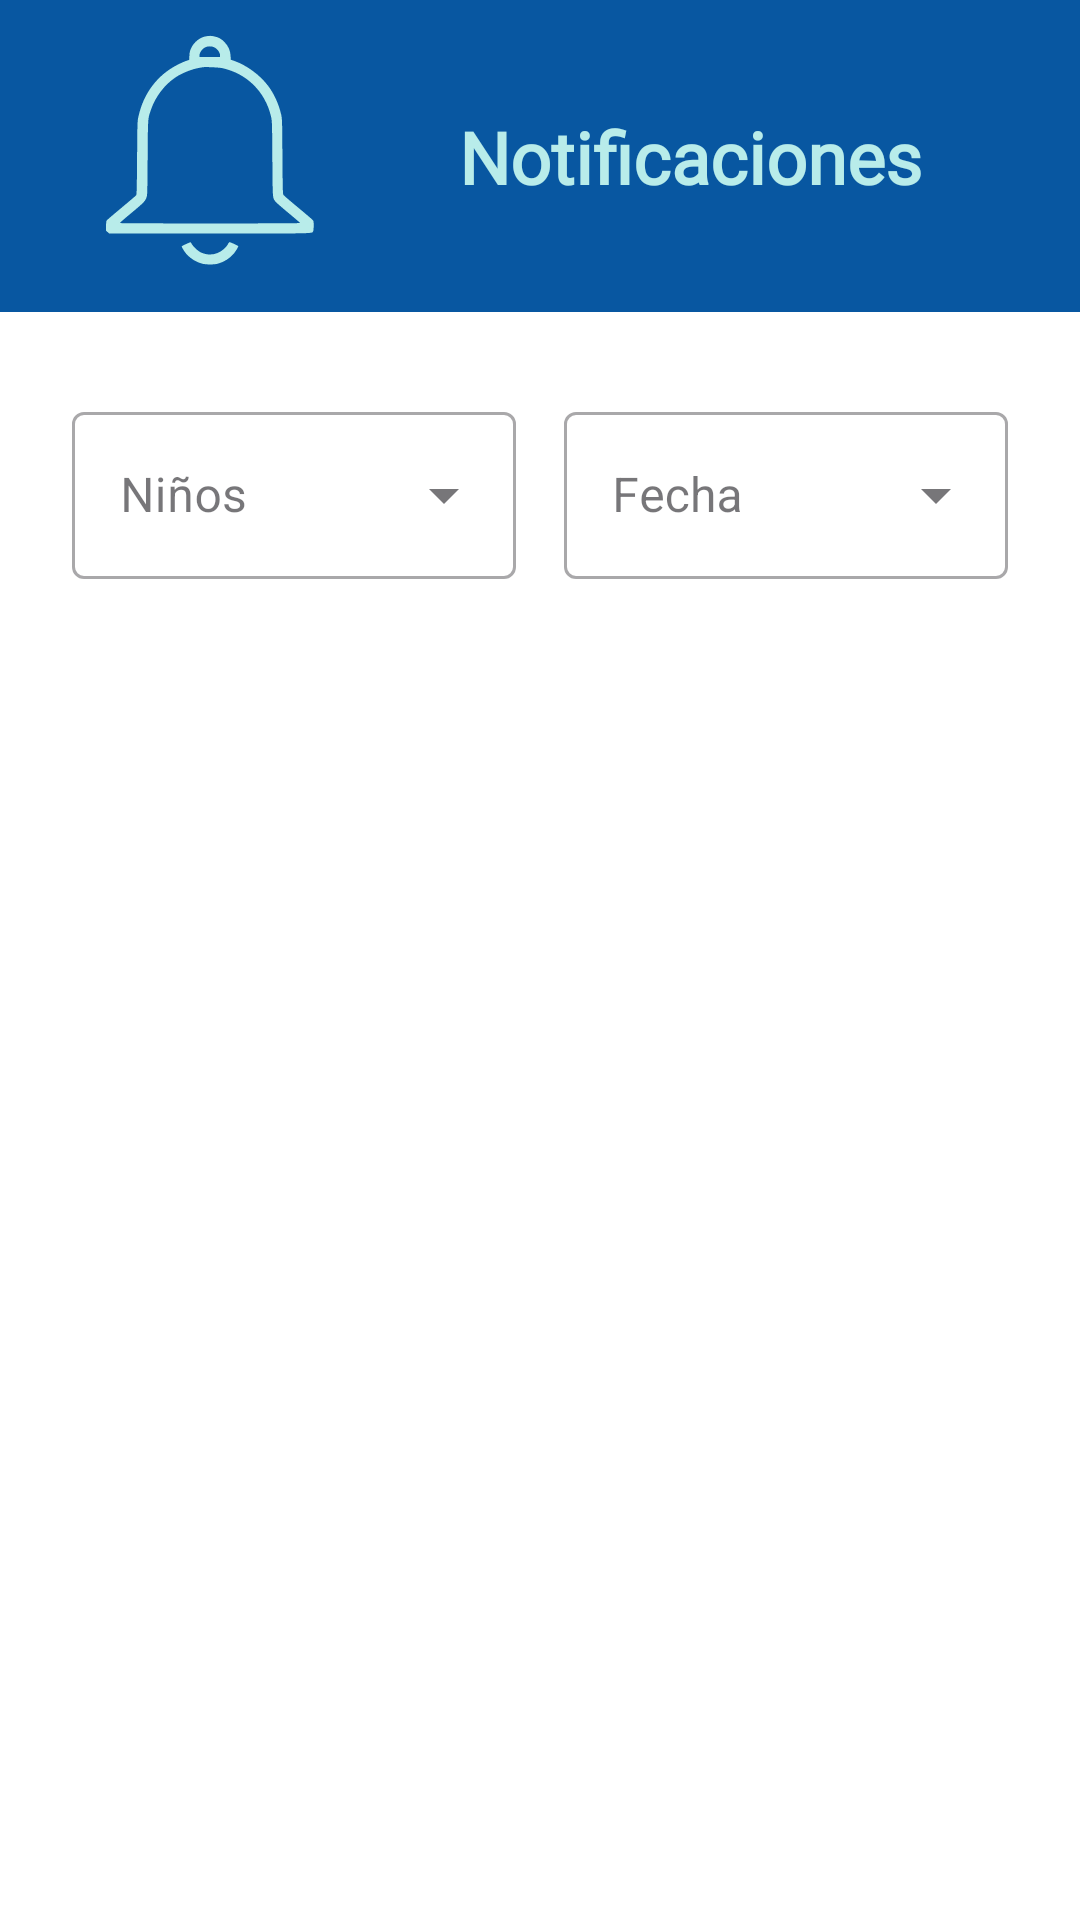

Named icons in this screenshot (1080*1920) and their bounding boxes, (x1, y1, x2, y2):
notifications: (106, 36, 314, 265)
